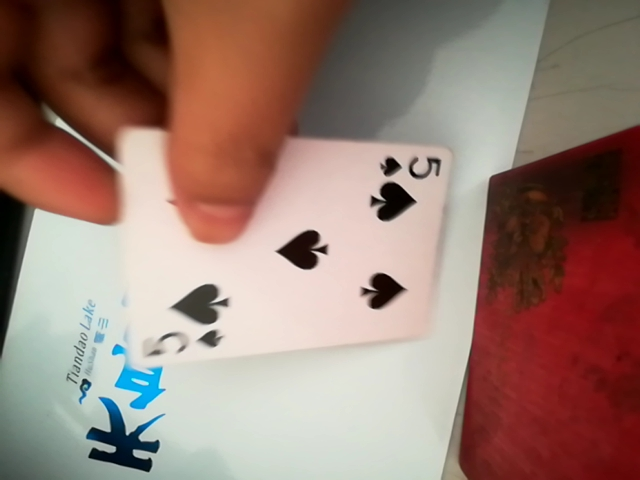ht 5: (129, 133, 454, 373)
